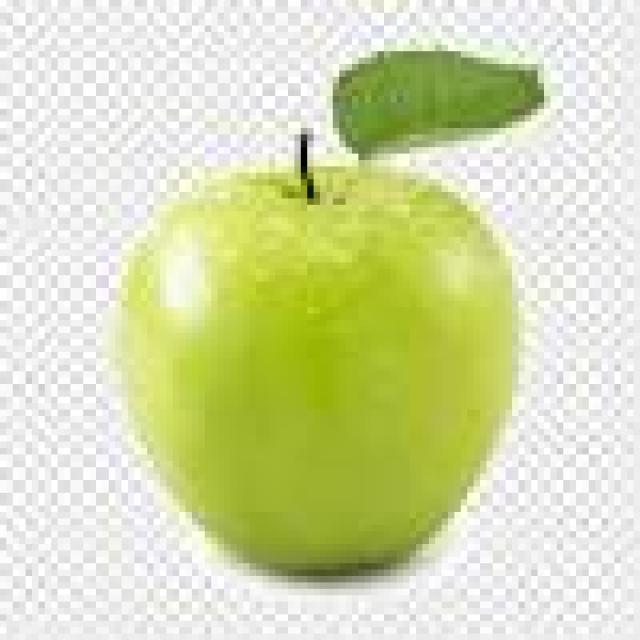50-_ripeness: (122, 129, 527, 582)
